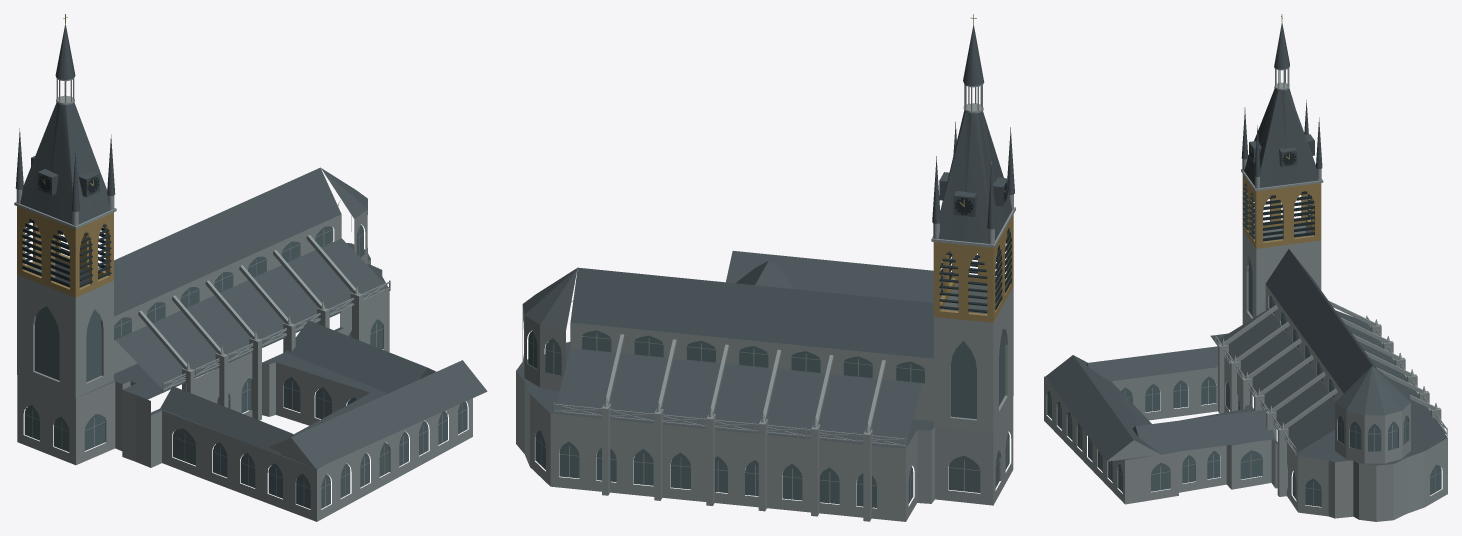
File: saint-paul-cathedral-liege-far.glb
3 renders of one model, left to right at view 1: azimuth 30°, elevation 25°; view 2: azimuth 150°, elevation 25°; view 3: azimuth 270°, elevation 25°, orthographic. The views are drawn at different scales.
Visible parts, largest first — view 1: saint-paul-cathedral-liege-0-roof, saint-paul-cathedral-liege-0-stone, saint-paul-cathedral-liege-0-glass, saint-paul-cathedral-liege-0-ochre, saint-paul-cathedral-liege-0-iron; view 2: saint-paul-cathedral-liege-0-roof, saint-paul-cathedral-liege-0-stone, saint-paul-cathedral-liege-0-glass, saint-paul-cathedral-liege-0-ochre, saint-paul-cathedral-liege-0-iron; view 3: saint-paul-cathedral-liege-0-roof, saint-paul-cathedral-liege-0-stone, saint-paul-cathedral-liege-0-glass, saint-paul-cathedral-liege-0-ochre, saint-paul-cathedral-liege-0-iron.
Boxes of the visible parts, bbox=[...] form: saint-paul-cathedral-liege-0-roof: bbox=[15, 24, 487, 469]; saint-paul-cathedral-liege-0-stone: bbox=[14, 77, 472, 521]; saint-paul-cathedral-liege-0-glass: bbox=[24, 225, 467, 508]; saint-paul-cathedral-liege-0-ochre: bbox=[17, 206, 113, 297]; saint-paul-cathedral-liege-0-iron: bbox=[22, 175, 111, 287]; saint-paul-cathedral-liege-0-roof: bbox=[516, 24, 1014, 448]; saint-paul-cathedral-liege-0-stone: bbox=[516, 83, 1015, 521]; saint-paul-cathedral-liege-0-glass: bbox=[528, 329, 1009, 507]; saint-paul-cathedral-liege-0-ochre: bbox=[933, 214, 1013, 322]; saint-paul-cathedral-liege-0-iron: bbox=[939, 183, 1011, 312]; saint-paul-cathedral-liege-0-roof: bbox=[1044, 22, 1447, 465]; saint-paul-cathedral-liege-0-stone: bbox=[1044, 67, 1447, 521]; saint-paul-cathedral-liege-0-glass: bbox=[1047, 259, 1441, 506]; saint-paul-cathedral-liege-0-ochre: bbox=[1242, 174, 1321, 248]; saint-paul-cathedral-liege-0-iron: bbox=[1242, 145, 1314, 241].
Bounding box in the file's own units: 85.69 × 90 × 91.03.
